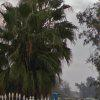Palm tree: (4, 3, 74, 99)
